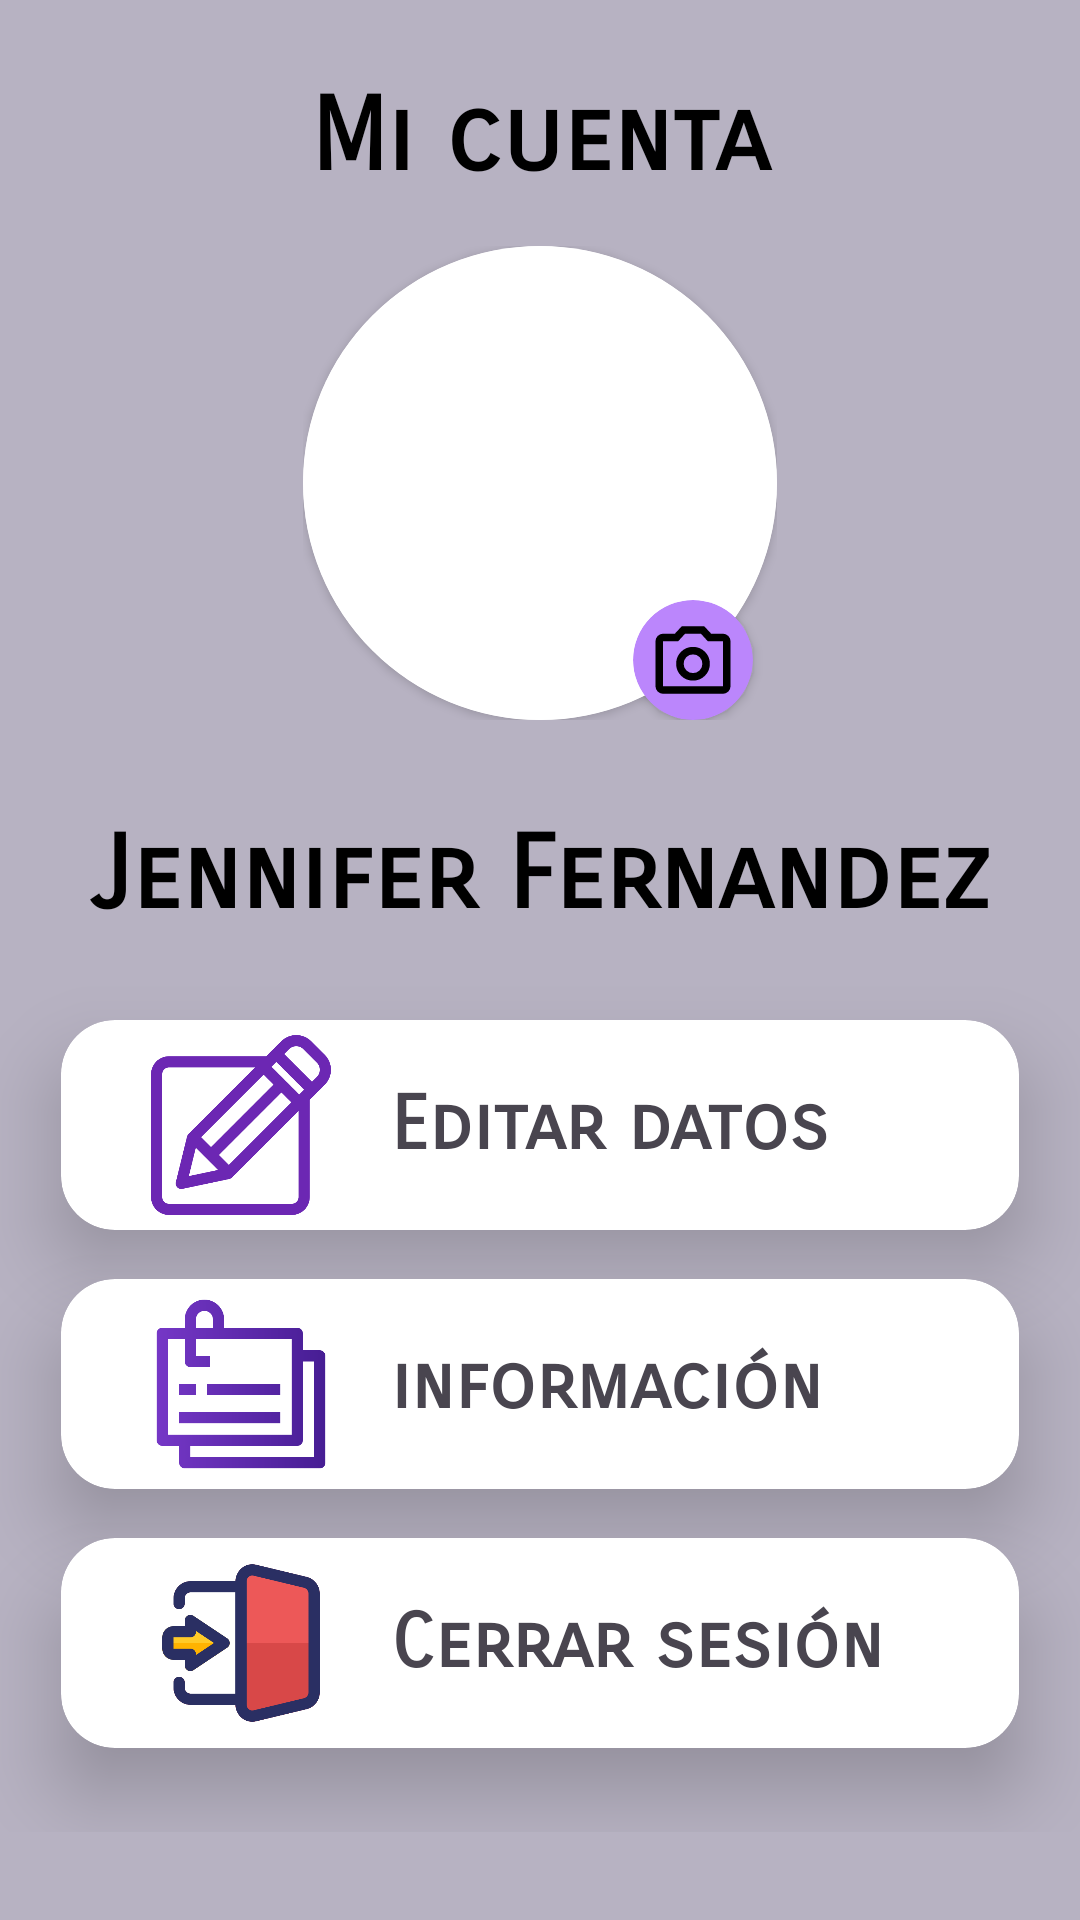

Named icons in this screenshot (1080px×1920px) and their centers, point (x, y):
camara: point (693, 660)
politica: point (241, 1384)
